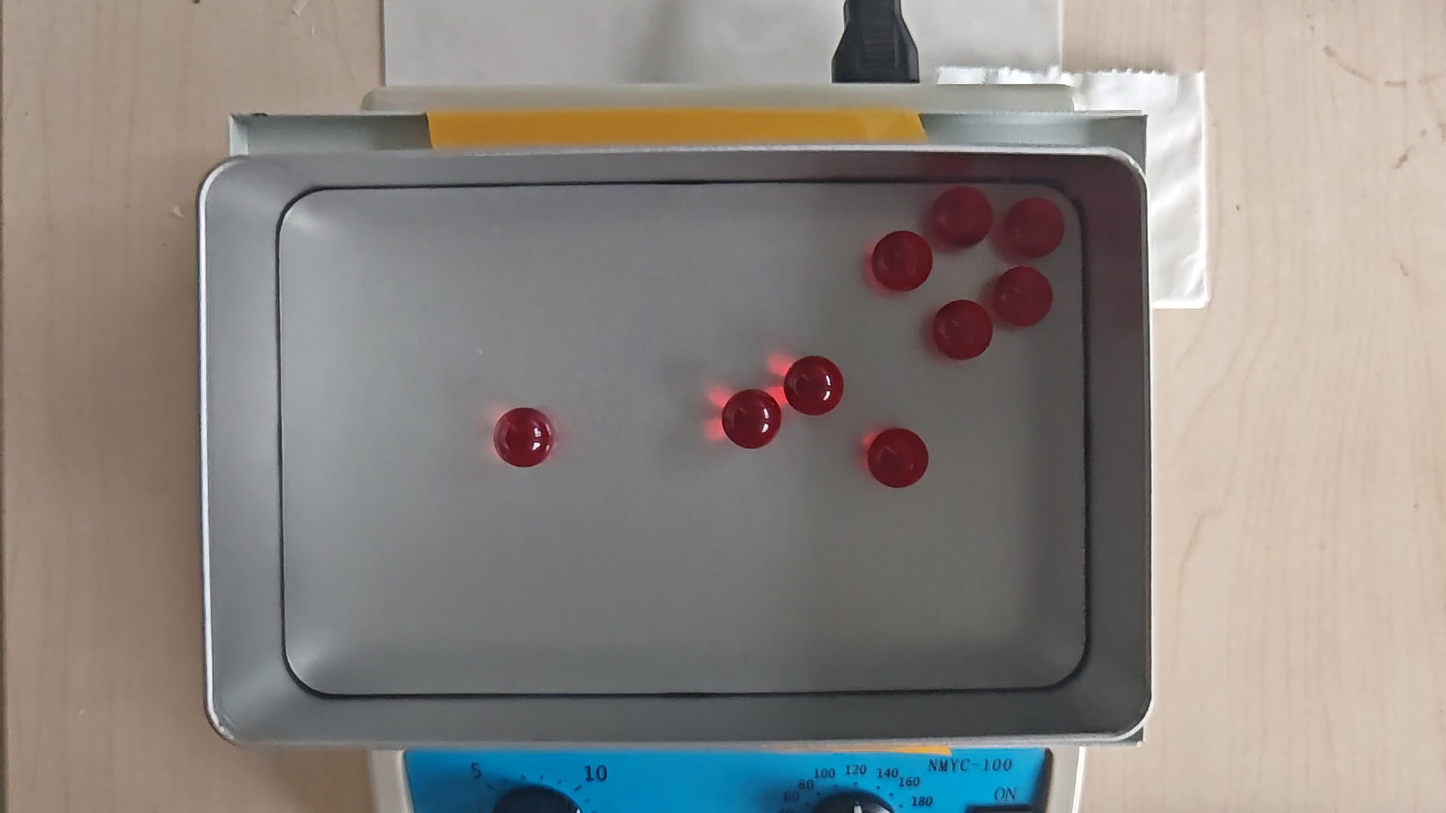ball: (991, 266, 1054, 329), (930, 186, 993, 249), (494, 405, 556, 469), (868, 427, 930, 489), (1004, 196, 1065, 259), (932, 299, 993, 361), (784, 355, 845, 417), (872, 230, 933, 292), (722, 388, 781, 450)
container: (280, 181, 1087, 694)
